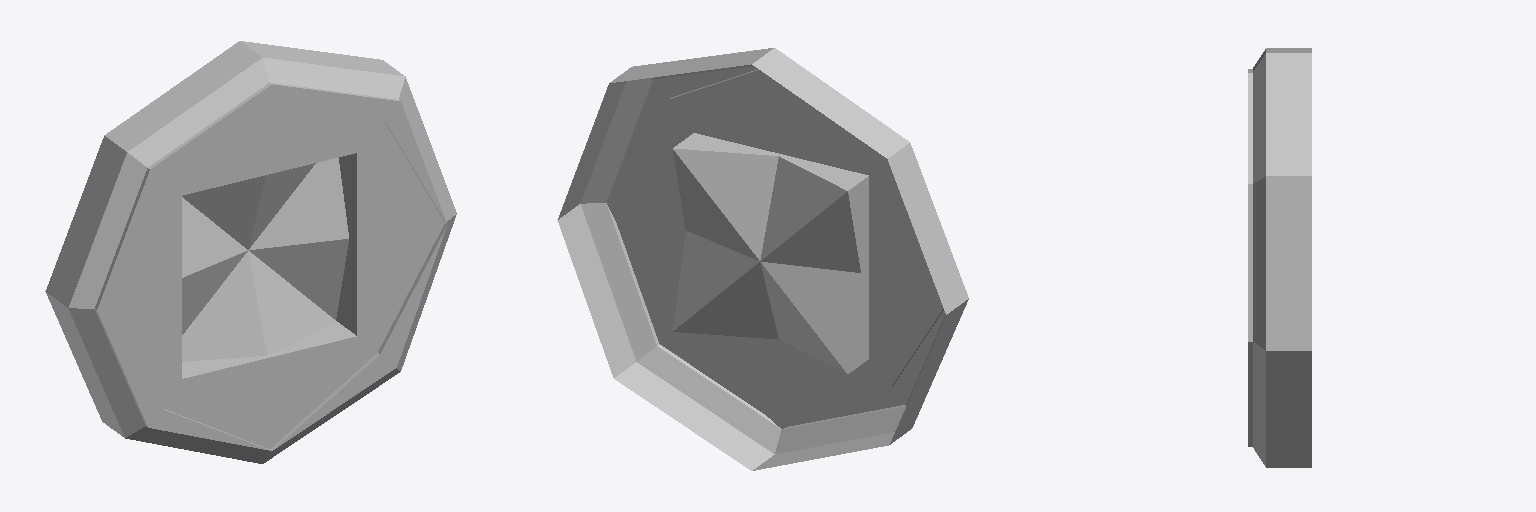
The picture shows the model from 3 angles: view 1: azimuth 30°, elevation 25°; view 2: azimuth 150°, elevation 25°; view 3: azimuth 270°, elevation 25°; orthographic projection.
Parts seen in each view (by area): view 1: Plane_gold_0; view 2: Plane_gold_0; view 3: Plane_gold_0.
Part boxes in pixels (left/top/right/bottom): Plane_gold_0: left=45, top=41, right=456, bottom=463; Plane_gold_0: left=557, top=48, right=968, bottom=470; Plane_gold_0: left=1248, top=48, right=1311, bottom=467.
Size of the model in its own units: 5.81 by 5.81 by 0.8362.